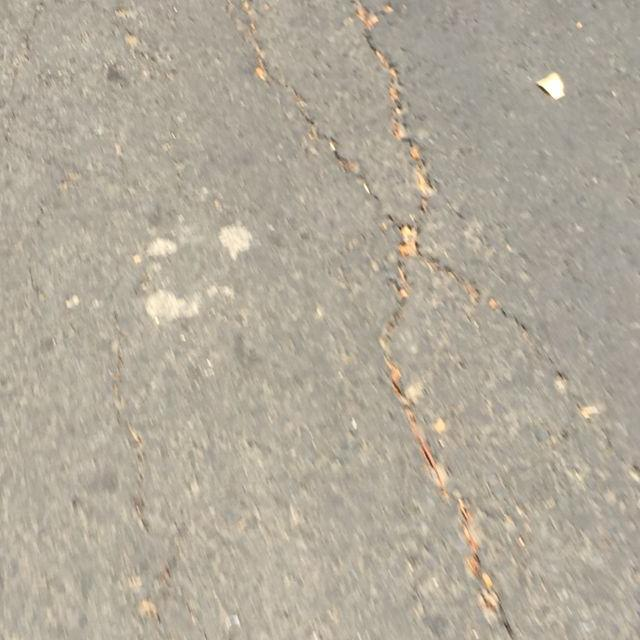retak_memanjang: (33, 0, 580, 640), (360, 0, 640, 640)
